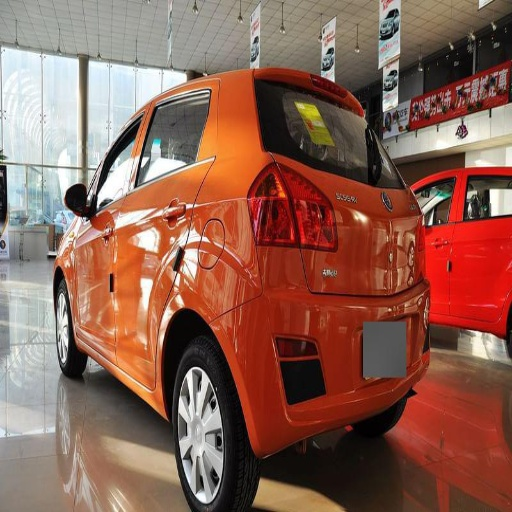back_bumper: (233, 251, 426, 429)
back_glass: (261, 85, 376, 177)
back_left_door: (125, 88, 215, 328)
back_left_light: (248, 176, 302, 247)
trunk: (290, 172, 423, 303)
